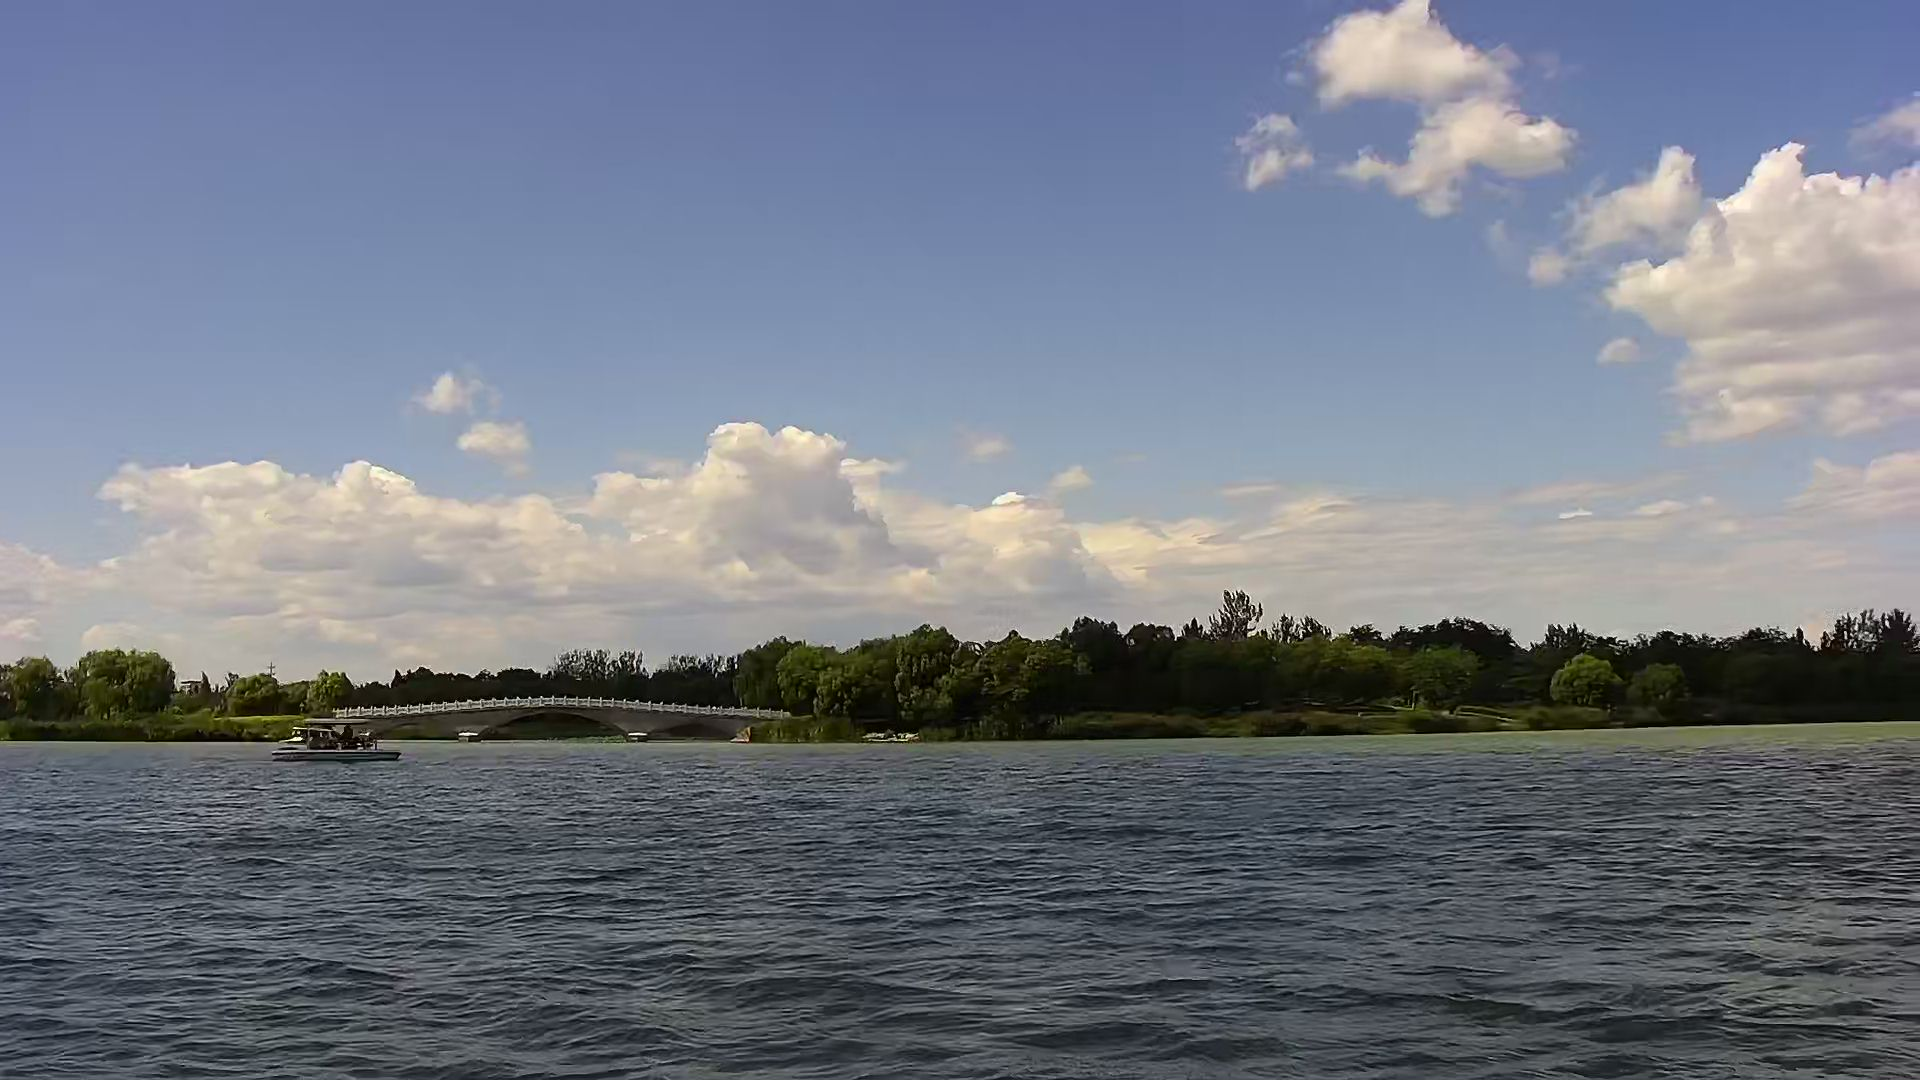boat: (262, 719, 396, 775)
bridge: (357, 688, 789, 744)
